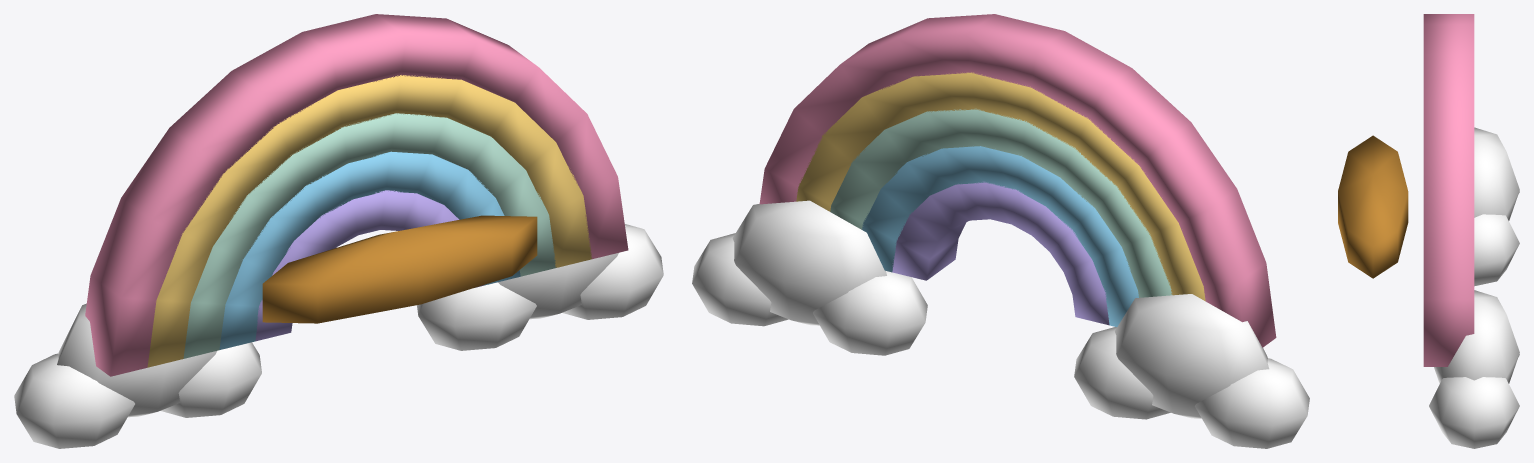
The model's file is pin_rainbow.glb.
3 renders of one model, left to right at view 1: azimuth 30°, elevation 25°; view 2: azimuth 150°, elevation 25°; view 3: azimuth 270°, elevation 25°, orthographic. The views are drawn at different scales.
Visible parts, largest first — view 1: RainbowArc, RainbowArc.001, RainbowArc.002, Clip, RainbowArc.003, CloudPuff.001, RainbowArc.004, CloudPuff.005, CloudPuff, CloudPuff.004, CloudPuff.002, CloudPuff.003; view 2: RainbowArc, RainbowArc.001, RainbowArc.002, RainbowArc.003, CloudPuff, CloudPuff.003, RainbowArc.004, CloudPuff.001, CloudPuff.005, CloudPuff.002, CloudPuff.004; view 3: RainbowArc, Clip, CloudPuff.004, CloudPuff.003, CloudPuff, CloudPuff.002.
Part boxes in pixels (bbox=[...]): RainbowArc: bbox=[85, 14, 628, 376]; RainbowArc.001: bbox=[147, 75, 592, 367]; RainbowArc.002: bbox=[183, 113, 556, 358]; Clip: bbox=[262, 215, 537, 323]; RainbowArc.003: bbox=[219, 151, 520, 349]; CloudPuff.001: bbox=[14, 353, 134, 448]; RainbowArc.004: bbox=[255, 190, 484, 341]; CloudPuff.005: bbox=[417, 282, 536, 350]; CloudPuff: bbox=[57, 303, 216, 417]; CloudPuff.004: bbox=[562, 224, 663, 319]; CloudPuff.002: bbox=[160, 342, 261, 417]; CloudPuff.003: bbox=[497, 253, 618, 319]; RainbowArc: bbox=[759, 14, 1276, 347]; RainbowArc.001: bbox=[796, 72, 1205, 301]; RainbowArc.002: bbox=[830, 108, 1172, 297]; RainbowArc.003: bbox=[862, 146, 1138, 326]; CloudPuff: bbox=[1115, 294, 1269, 418]; CloudPuff.003: bbox=[732, 200, 886, 325]; RainbowArc.004: bbox=[892, 181, 1109, 325]; CloudPuff.001: bbox=[1195, 358, 1309, 448]; CloudPuff.005: bbox=[813, 271, 927, 355]; CloudPuff.002: bbox=[1074, 327, 1170, 419]; CloudPuff.004: bbox=[692, 233, 788, 326]; RainbowArc: bbox=[1423, 14, 1474, 366]; Clip: bbox=[1338, 135, 1408, 278]; CloudPuff.004: bbox=[1429, 377, 1519, 448]; CloudPuff.003: bbox=[1434, 290, 1519, 383]; CloudPuff: bbox=[1474, 127, 1519, 220]; CloudPuff.002: bbox=[1474, 214, 1519, 286].
Size of the model in its own units: 0.0543 by 0.0288 by 0.016.
1 material, 1 textured.
